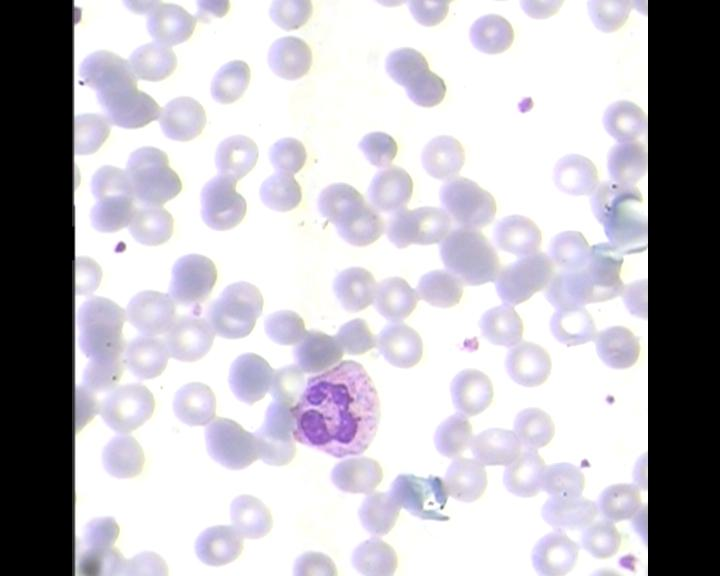neut: (286, 359, 382, 459)
